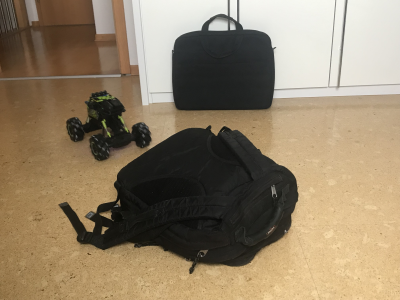remote control car: (63, 88, 153, 162)
